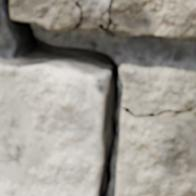brick: (0, 59, 107, 195), (116, 61, 195, 195), (110, 0, 195, 39), (12, 0, 79, 31), (78, 0, 108, 29)
crack: (2, 0, 193, 195), (95, 0, 118, 30), (69, 0, 83, 30)
